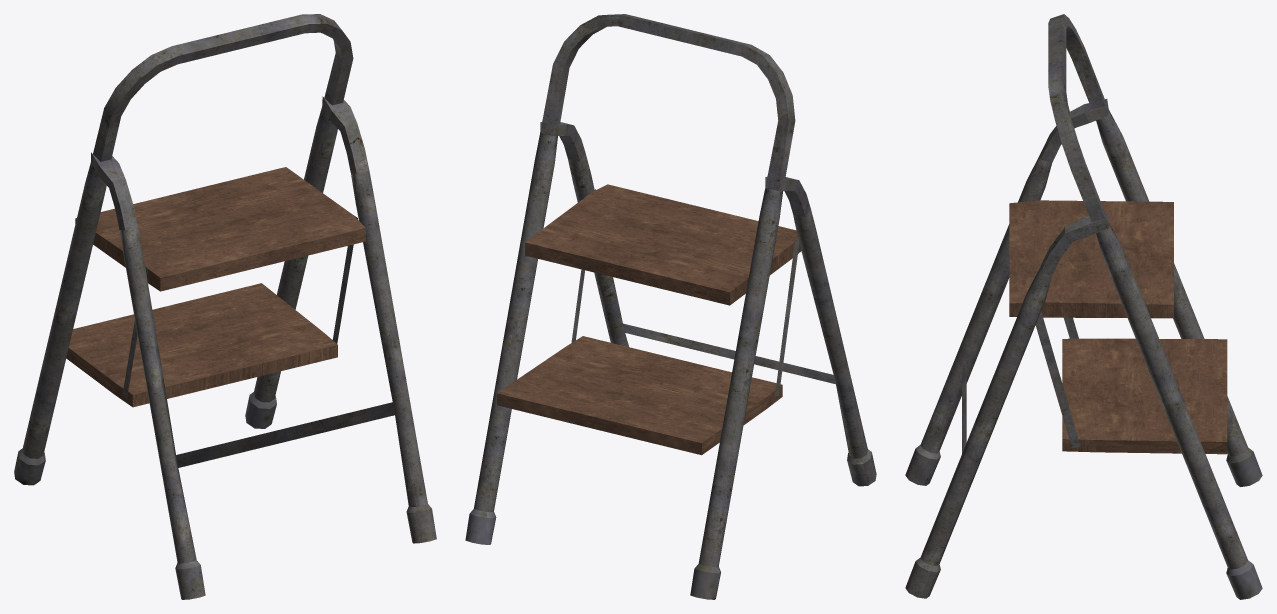
Rendered from M_Home_Garden_KitchenStep.fbx.
3 renders of one model, left to right at view 1: azimuth 30°, elevation 25°; view 2: azimuth 150°, elevation 25°; view 3: azimuth 270°, elevation 25°, orthographic. The views are drawn at different scales.
Visible parts, largest first — view 1: M_Home_Garden_KitchenStep; view 2: M_Home_Garden_KitchenStep; view 3: M_Home_Garden_KitchenStep.
Boxes of the visible parts, left/top/right/bottom form: M_Home_Garden_KitchenStep: left=14, top=14, right=436, bottom=599; M_Home_Garden_KitchenStep: left=465, top=14, right=876, bottom=599; M_Home_Garden_KitchenStep: left=905, top=14, right=1262, bottom=599.
Bounding box in the file's own units: 54.65 × 99.93 × 66.
